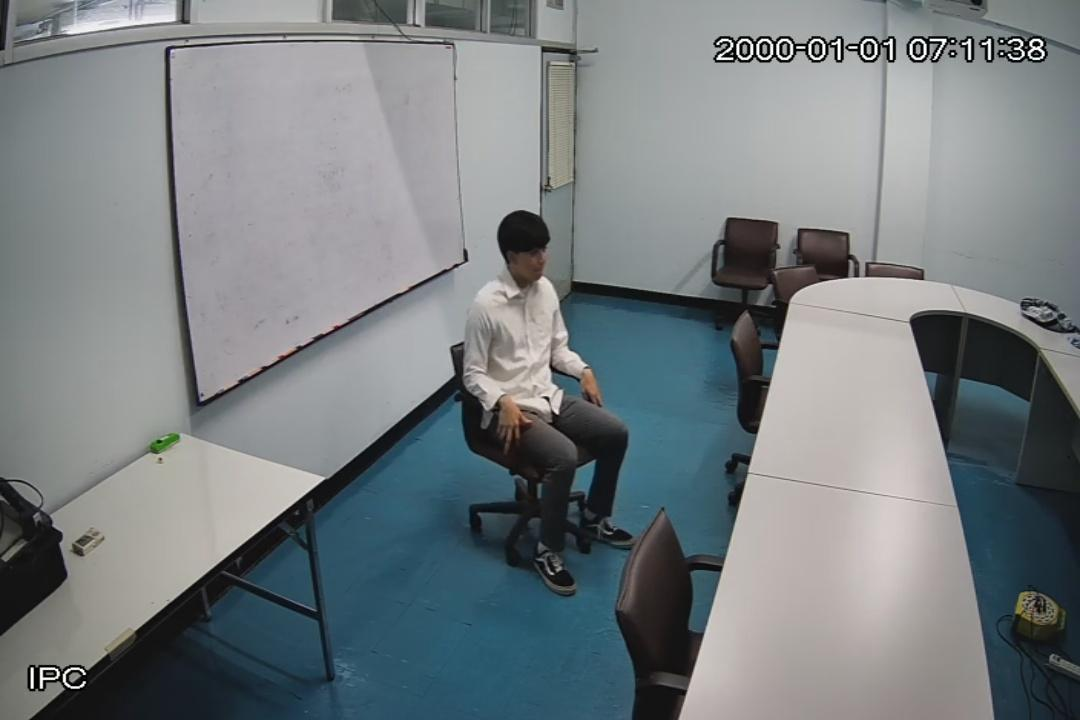normal: (463, 210, 637, 599)
